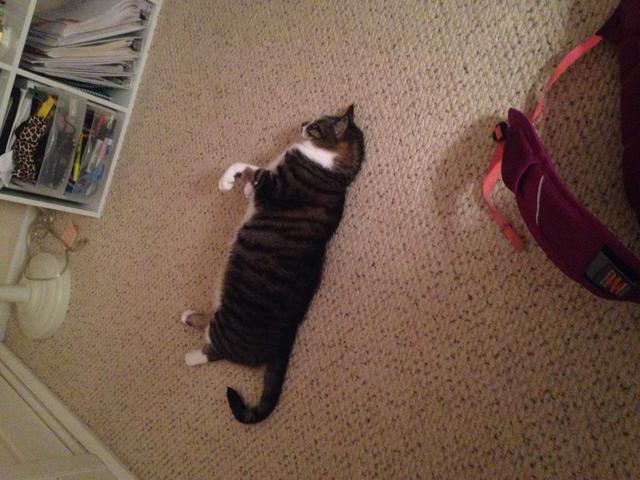playdoh: (177, 101, 366, 426)
